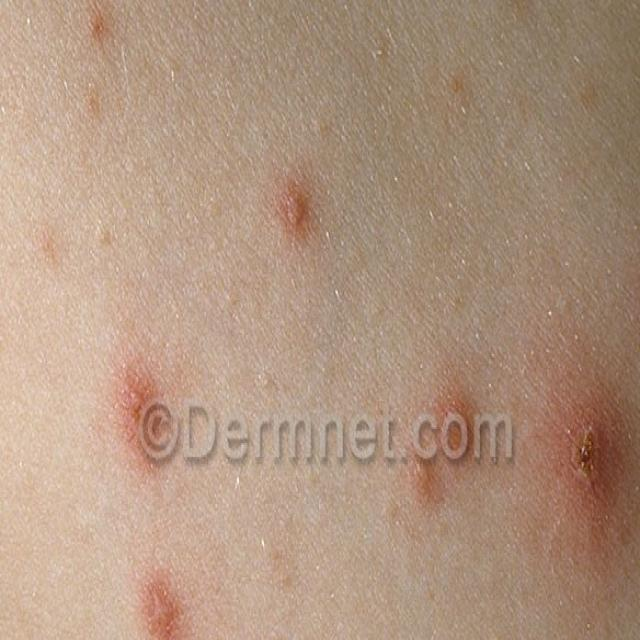Viral Infections: (396, 340, 640, 575), (90, 344, 178, 491), (138, 540, 235, 640), (269, 163, 322, 243)
